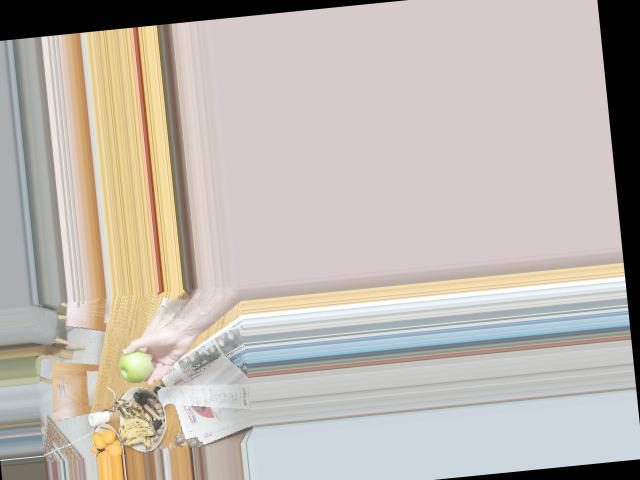apple: (115, 348, 151, 383)
